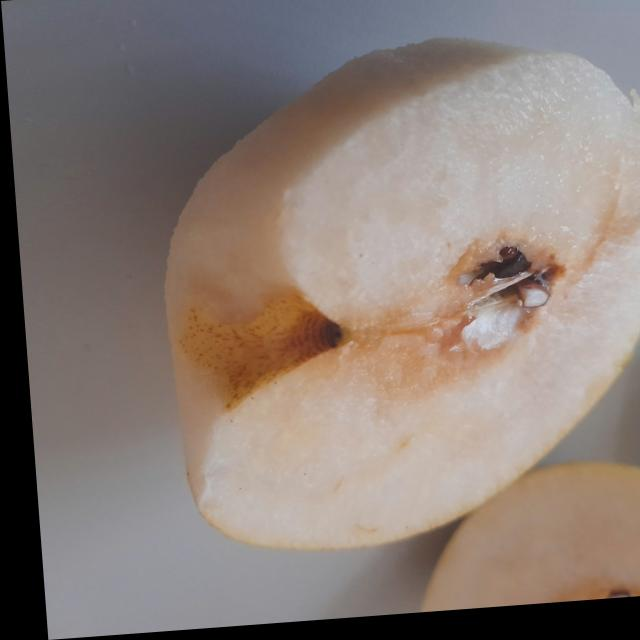Le: (146, 53, 640, 559)
